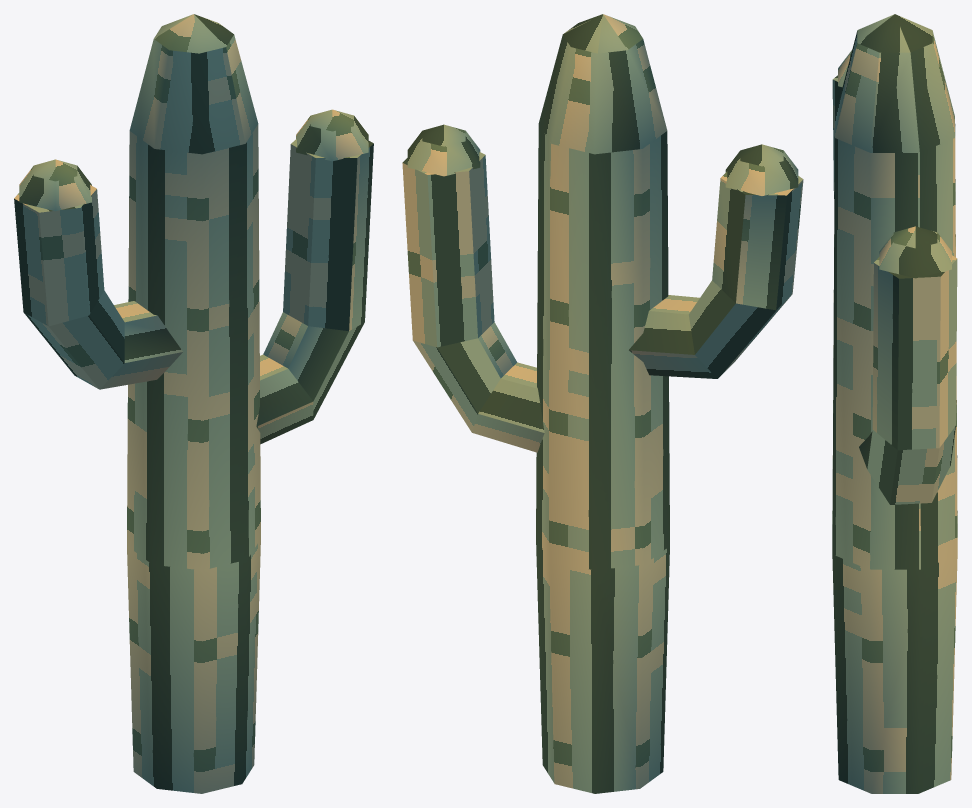
The model's file is wprop.cactus.glb.
The picture shows the model from 3 angles, left to right: view 1: azimuth 30°, elevation 25°; view 2: azimuth 150°, elevation 25°; view 3: azimuth 270°, elevation 25°; orthographic projection.
Parts seen in each view (by area): view 1: kit_trunk, kit_arms, kit_tips; view 2: kit_trunk, kit_arms, kit_tips; view 3: kit_trunk, kit_arms, kit_tips.
Boxes of the visible parts, <box> form: kit_trunk: <box>127,14,260,793</box>; kit_arms: <box>14,139,373,444</box>; kit_tips: <box>19,109,368,211</box>; kit_trunk: <box>536,14,669,793</box>; kit_arms: <box>402,152,803,452</box>; kit_tips: <box>407,124,798,195</box>; kit_trunk: <box>832,14,957,793</box>; kit_arms: <box>832,75,957,504</box>; kit_tips: <box>838,50,951,278</box>.
Size of the model in its own units: 1.64 by 3.2 by 0.4804.
1 material, 1 textured.
